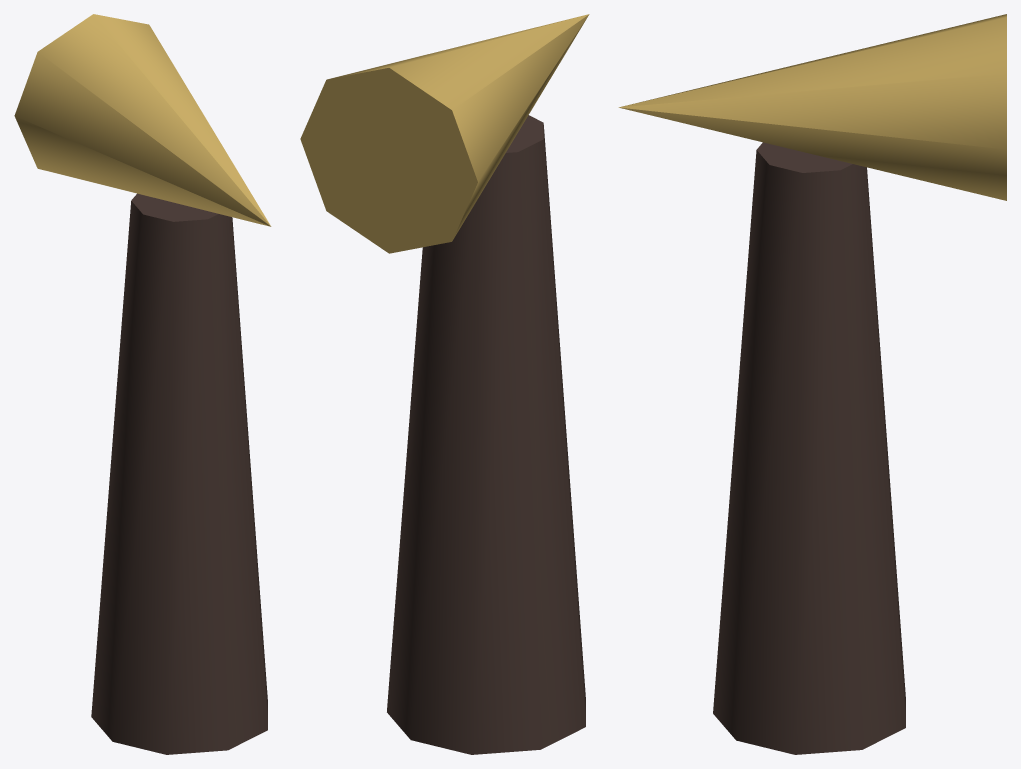
Rendered from telescope.glb.
3 renders of one model, left to right at view 1: azimuth 30°, elevation 25°; view 2: azimuth 150°, elevation 25°; view 3: azimuth 270°, elevation 25°, orthographic. The views are drawn at different scales.
Visible parts, largest first — view 1: telescope_stand, telescope_focus; view 2: telescope_stand, telescope_focus; view 3: telescope_stand, telescope_focus.
Boxes of the visible parts, x1,y1,x2,y2 form: telescope_stand: [91, 193, 267, 754]; telescope_focus: [14, 14, 271, 226]; telescope_stand: [387, 115, 585, 754]; telescope_focus: [300, 14, 589, 253]; telescope_stand: [713, 142, 905, 754]; telescope_focus: [618, 14, 1006, 200].
Size of what is drawn, in the model's own units: 0.64 by 2.47 by 1.25.
